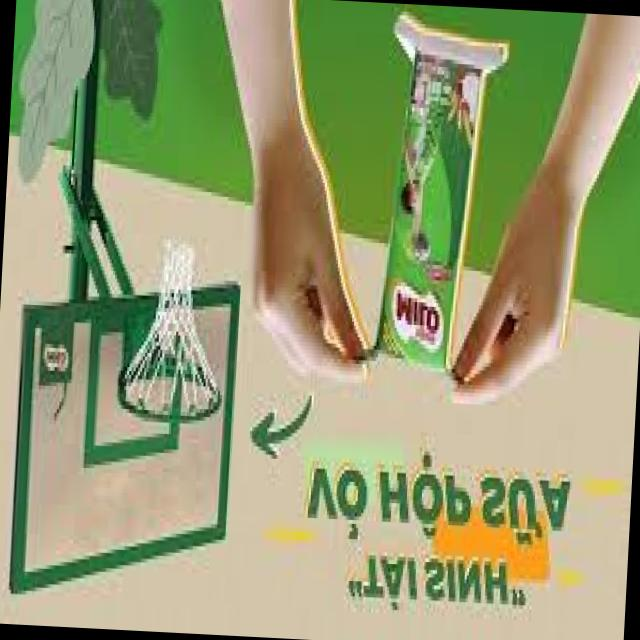sua milo: (366, 39, 506, 388)
